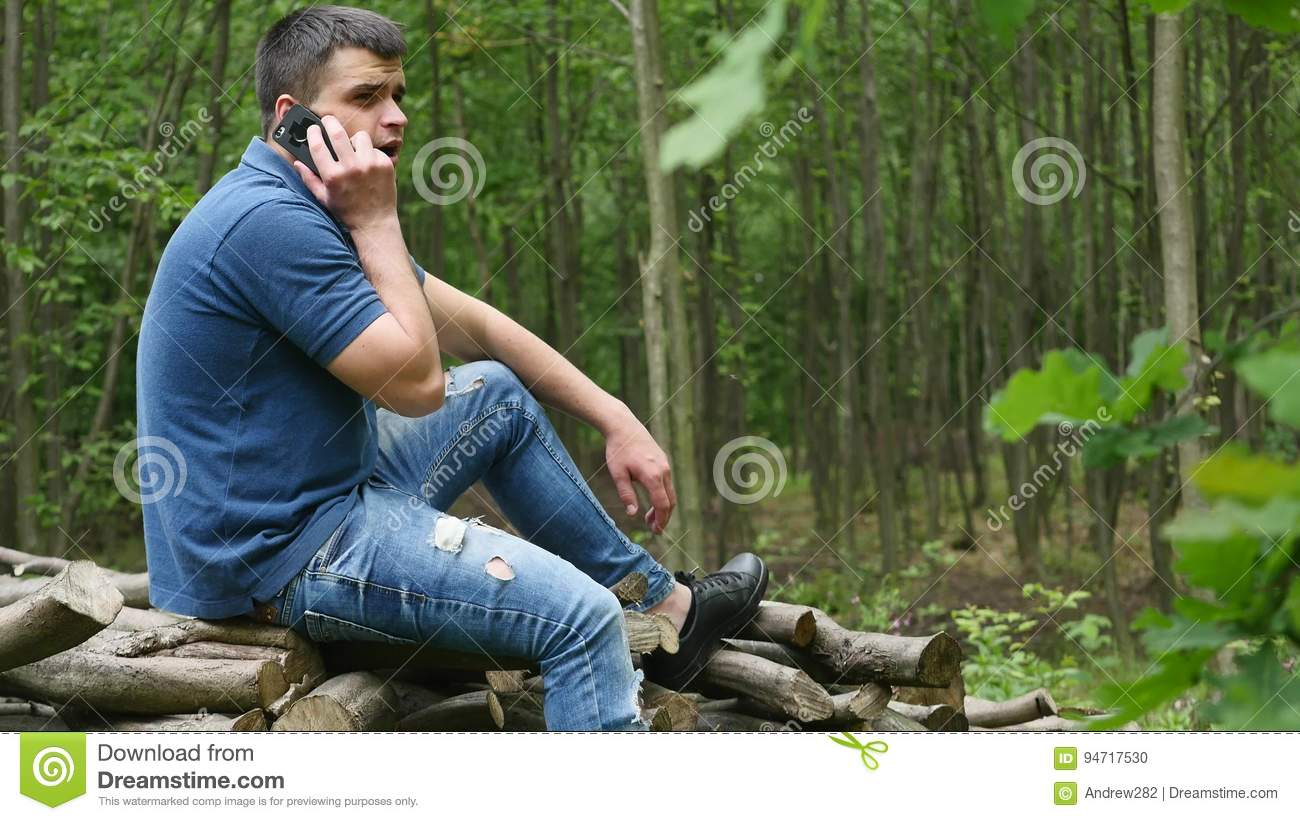phone: (274, 102, 363, 202)
talk: (268, 69, 414, 231)
